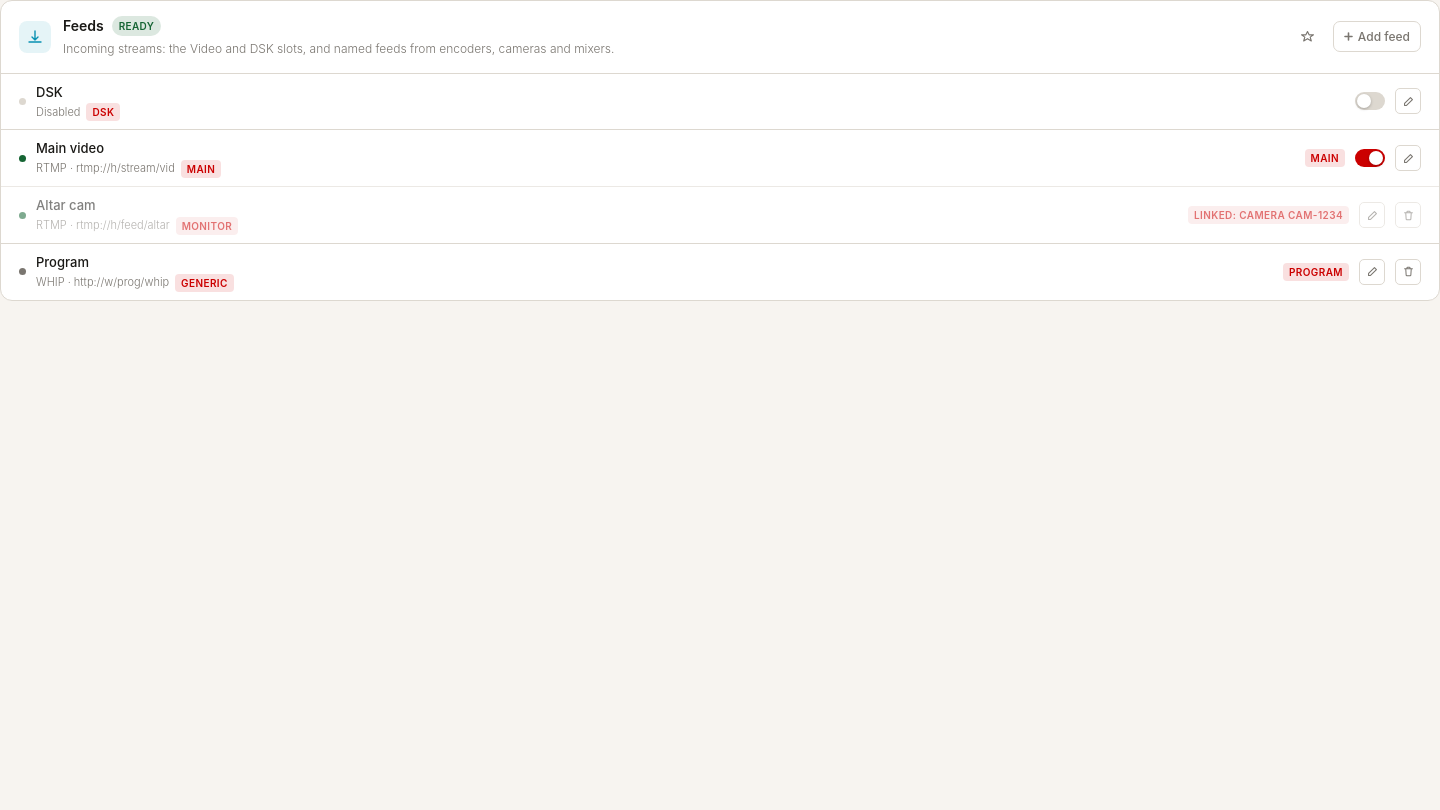
Test case: FeedsSection › explains a 409 key clash in the dialog and keeps it open
expect the text "Altar cam" is shown: met, box [36,197,96,213]
Click the button "Add feed" at (1377, 37), box [1333,21,1421,52]
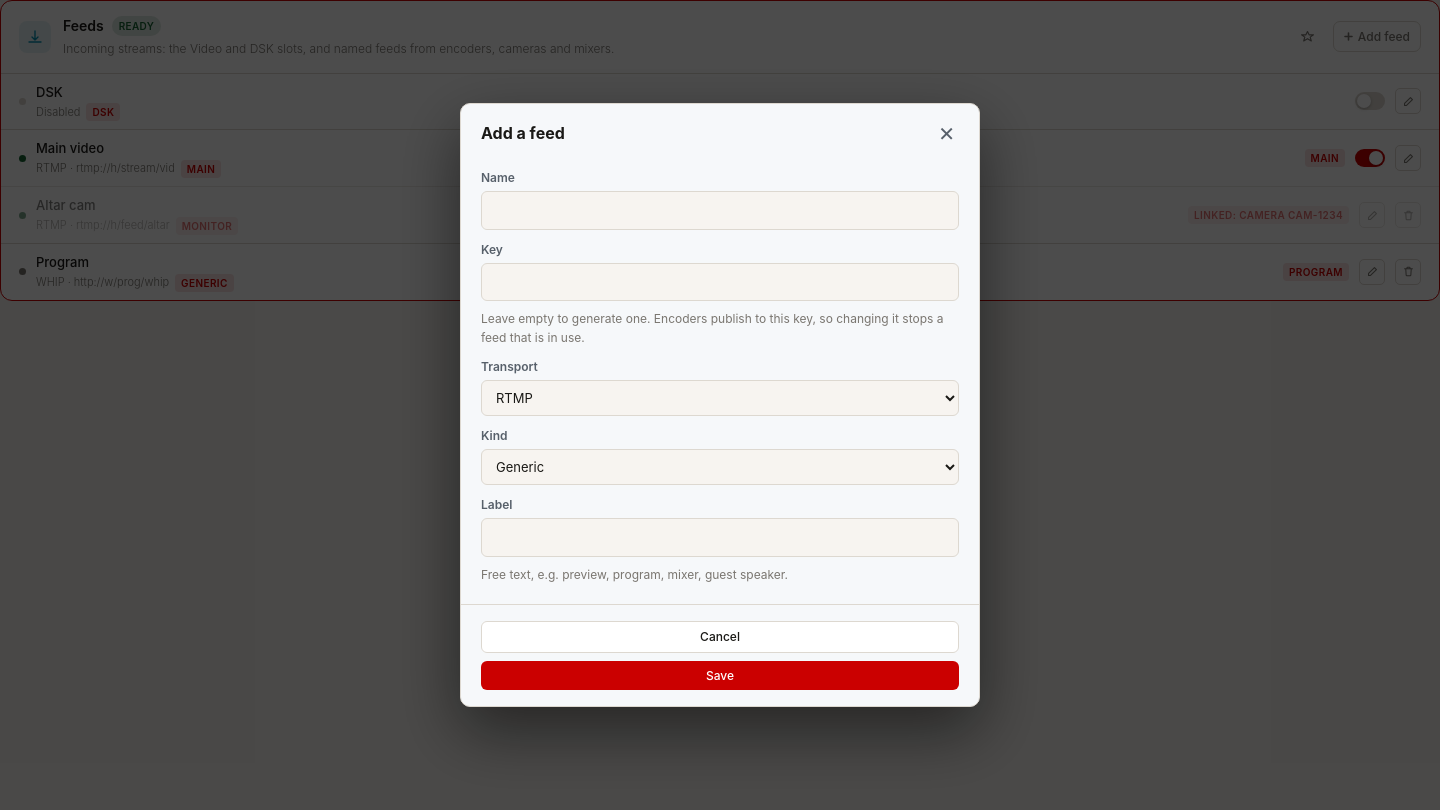
Type "Copy" into the field labelled "Name" at (720, 211), box [481,191,959,230]
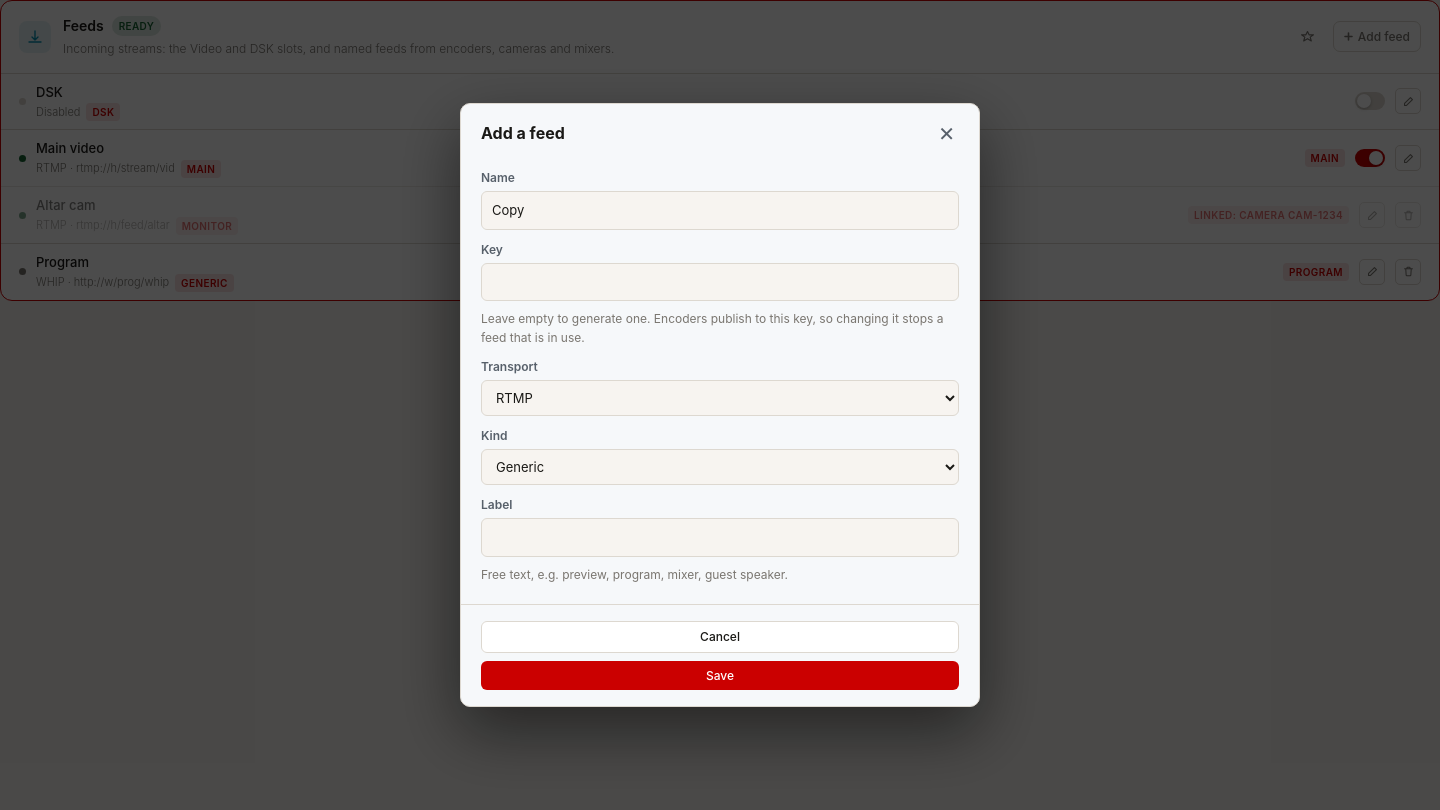
Type "altar" into the field labelled "Key" at (720, 282), box [481,263,959,300]
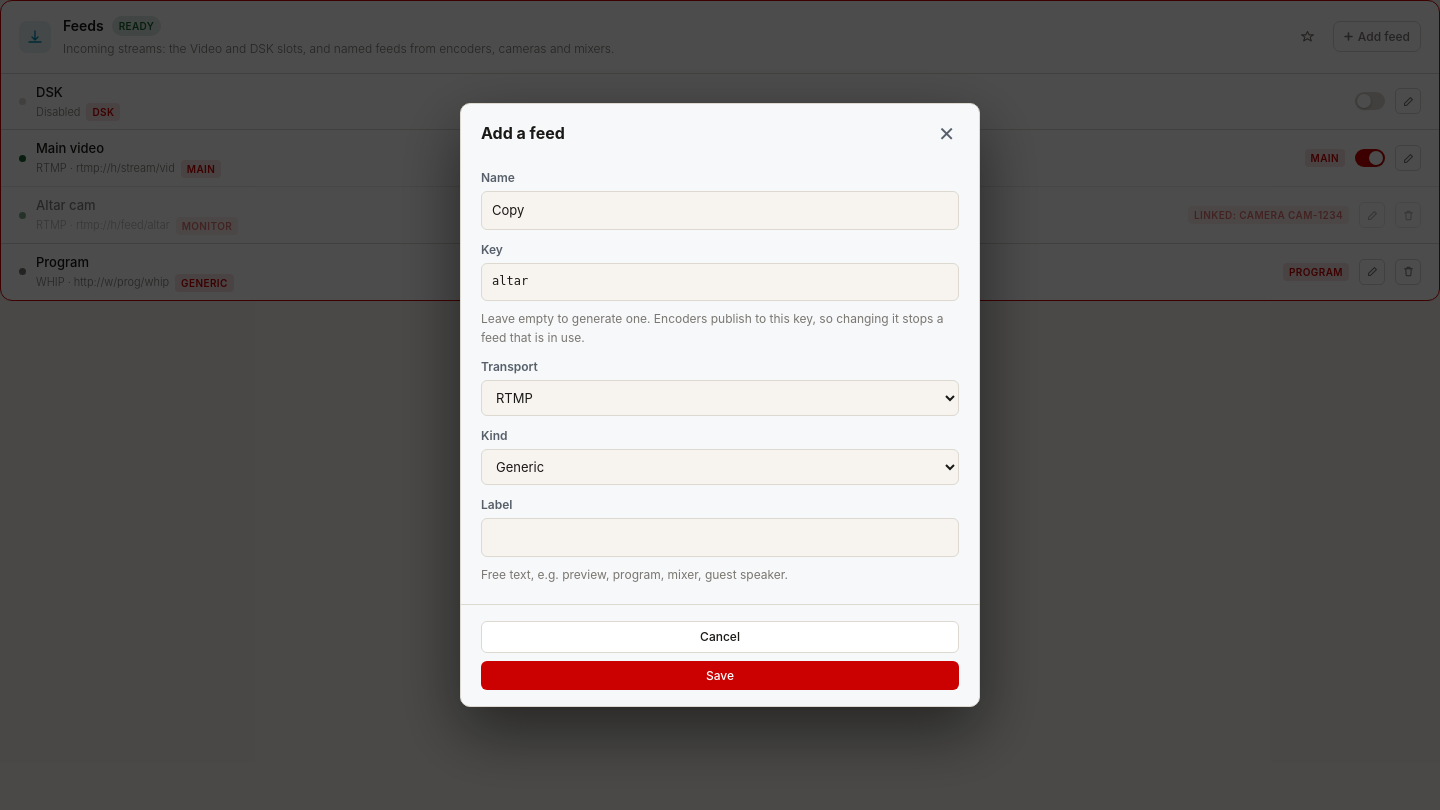
Click the button "Save" at (720, 675), box [481,661,959,690]
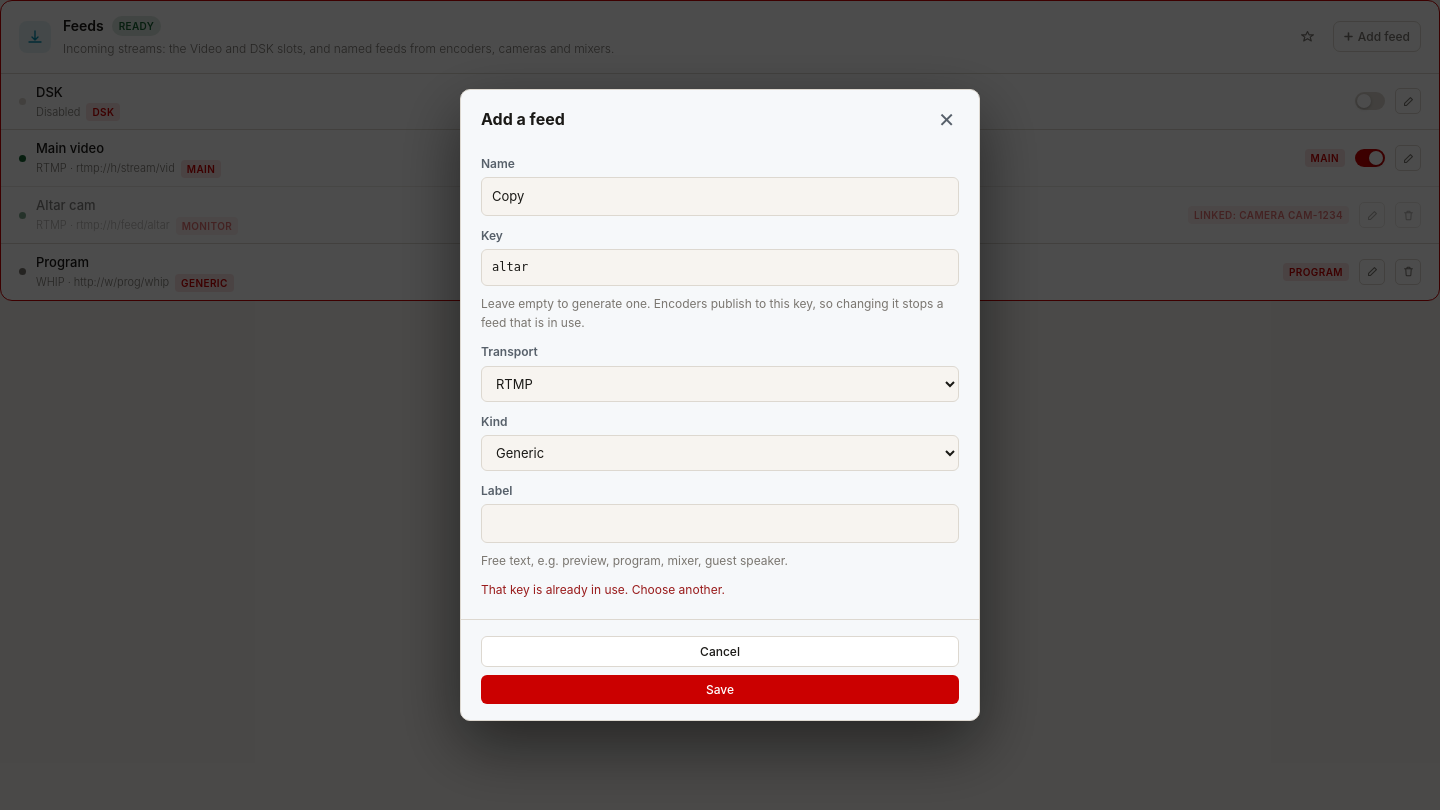
expect the text "That key is already in use. Choose another." is shown: met, box [481,582,725,597]
